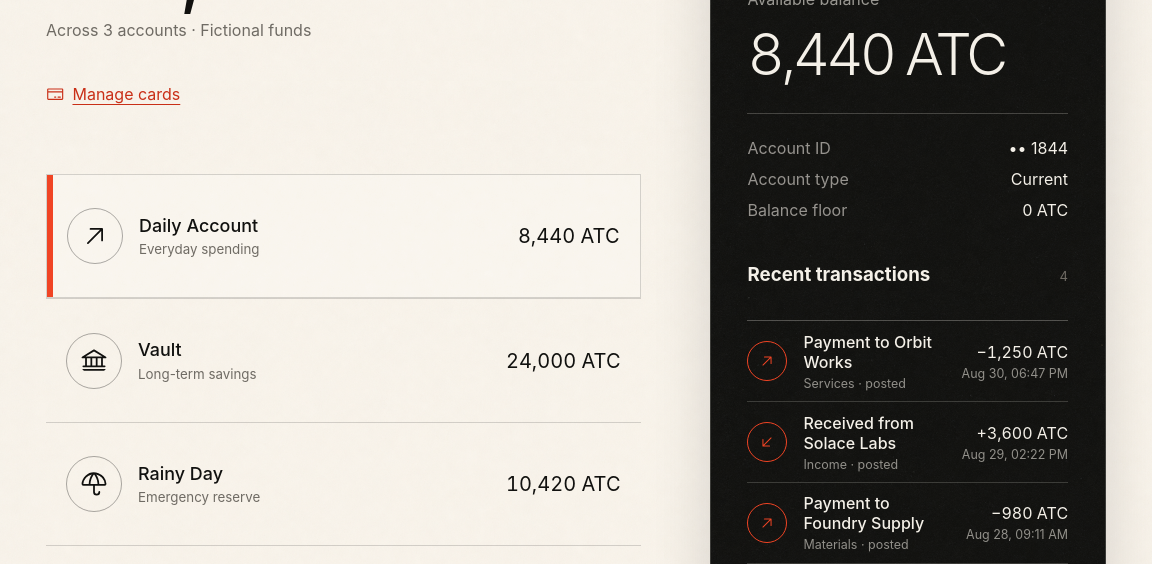
complete At Attin product experience › switches account detail and produces a statement result
This screenshot has width=1152, height=564.
(page scrolled)
What coordinates should you click on to do the following:
click the button "Vault Long-term savings 24,000 ATC"
I would click on:
 (94, 361)
Its box is [46, 298, 640, 422].
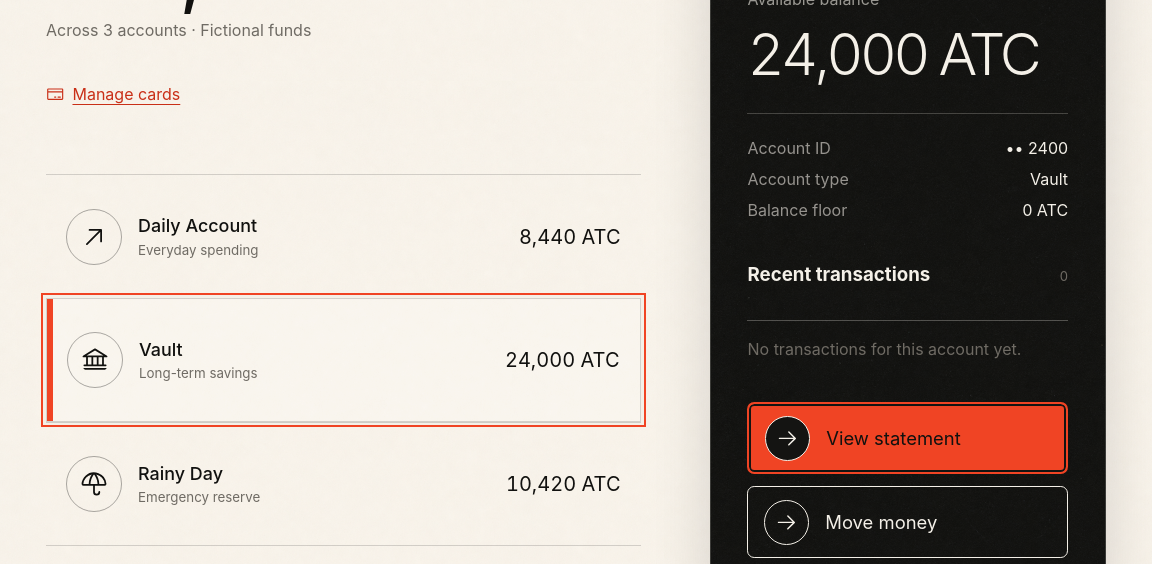
Expected: the text "24,000 ATC" below "Available balance" is shown, [748, 19, 1038, 89]
What coordinates should you click on to do the following:
click the button "View statement"
I would click on:
 (908, 438)
Its box is [748, 402, 1068, 474].
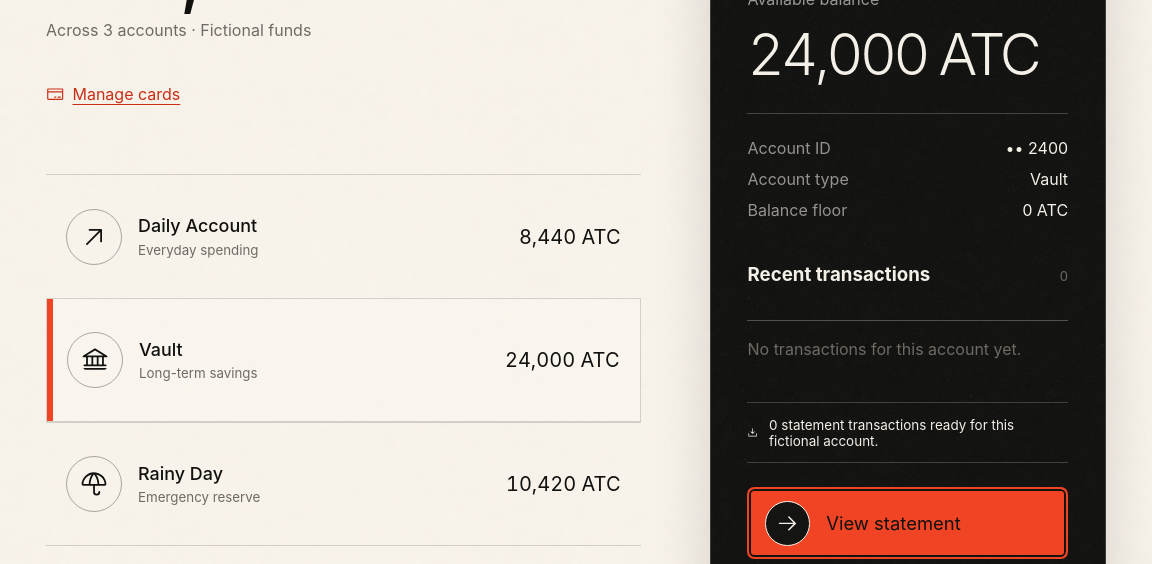
Expected: the text "0 statement transactions ready for this fictional account." is shown, [748, 402, 1068, 463]
